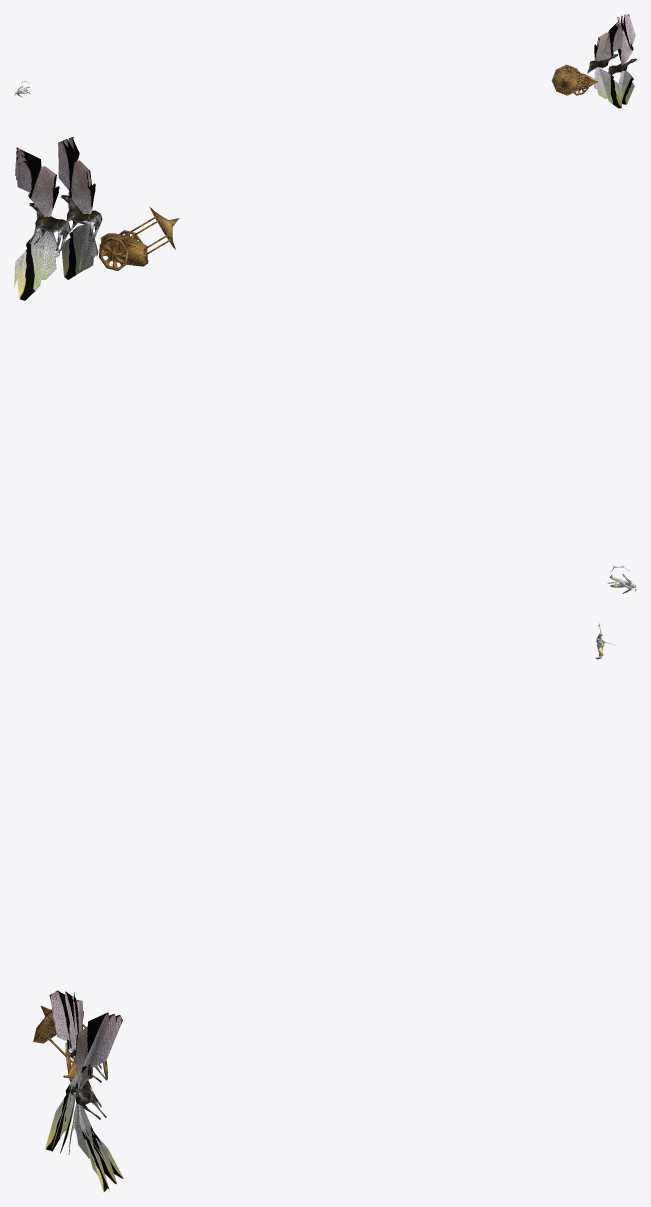
File: rama_001011.obj
3 views of the same model, one above another, from view 1: azimuth 30°, elevation 25°; view 2: azimuth 150°, elevation 25°; view 3: azimuth 270°, elevation 25° (orthographic). The views are drawn at different scales.
Visible parts, largest first — view 1: wings_Plane.001, wings.001_Plane.000, umbrella_Sphere, Horse.001_objHorse_0.006, Horse.000_objHorse_0.005; view 2: wings.001_Plane.000, wings_Plane.001, chariot_Cube.001, Horse.001_objHorse_0.006, Horse.000_objHorse_0.005, umbrella_Sphere, wheelL_Cylinder.004; view 3: wings.001_Plane.000, wings_Plane.001.
Boxes of the visible parts, left/top/right/bottom form: wings_Plane.001: left=594, top=22, right=622, bottom=108; wings.001_Plane.000: left=617, top=14, right=635, bottom=104; umbrella_Sphere: left=551, top=64, right=582, bottom=95; Horse.001_objHorse_0.006: left=587, top=54, right=618, bottom=73; Horse.000_objHorse_0.005: left=608, top=58, right=636, bottom=74; wings.001_Plane.000: left=14, top=147, right=59, bottom=300; wings_Plane.001: left=58, top=137, right=98, bottom=279; chariot_Cube.001: left=100, top=233, right=148, bottom=266; Horse.001_objHorse_0.006: left=59, top=195, right=102, bottom=242; Horse.000_objHorse_0.005: left=28, top=203, right=70, bottom=251; umbrella_Sphere: left=121, top=206, right=179, bottom=264; wheelL_Cylinder.004: left=99, top=237, right=128, bottom=270; wings.001_Plane.000: left=74, top=1012, right=123, bottom=1192; wings_Plane.001: left=45, top=990, right=83, bottom=1154.
Bounding box in the file's own units: 86.41 × 15.43 × 44.22.
